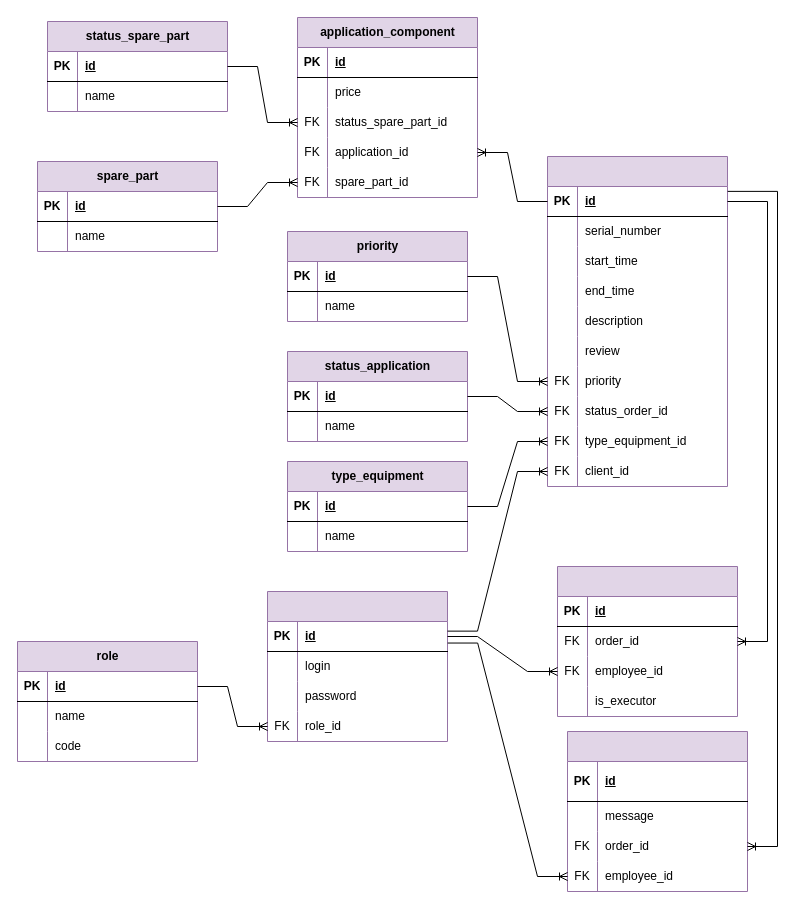
The diagram is 803 pixels wide and 909 high, and some of its shapes have lost their labels. Each missing label, with the box of its shape:
application: (546, 156, 728, 486)
application_employee: (556, 566, 738, 716)
comment: (566, 730, 748, 892)
user: (266, 590, 448, 742)
